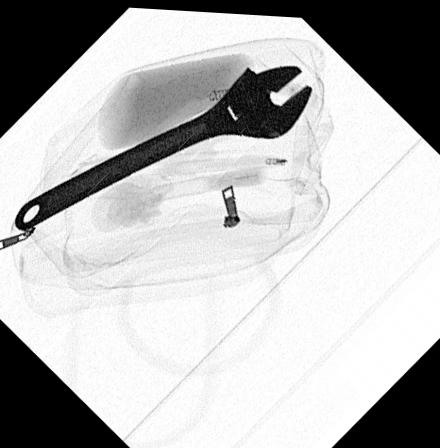Wrench: (11, 57, 315, 235)
